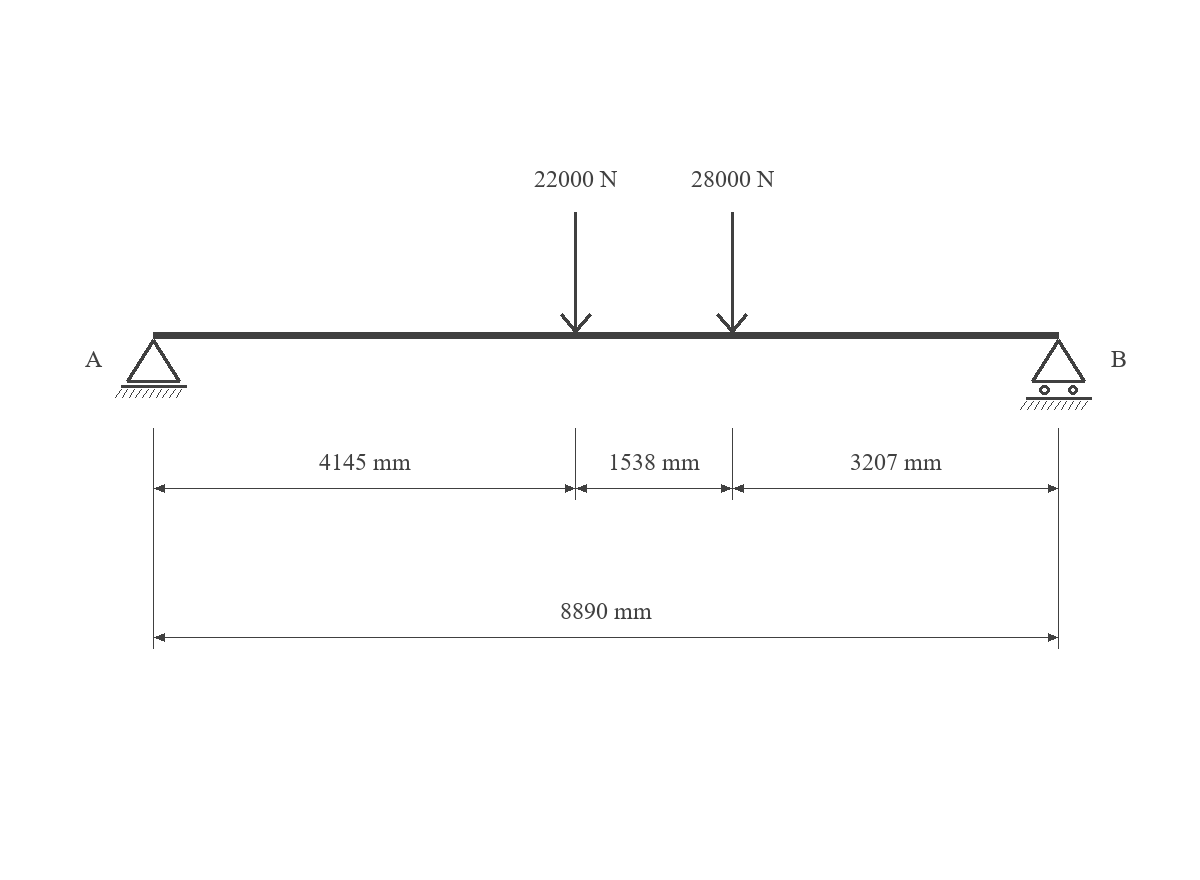pin_support: (115, 339, 187, 398)
point_load: (560, 212, 592, 333), (716, 212, 748, 333)
roller_support: (1020, 339, 1092, 410)
